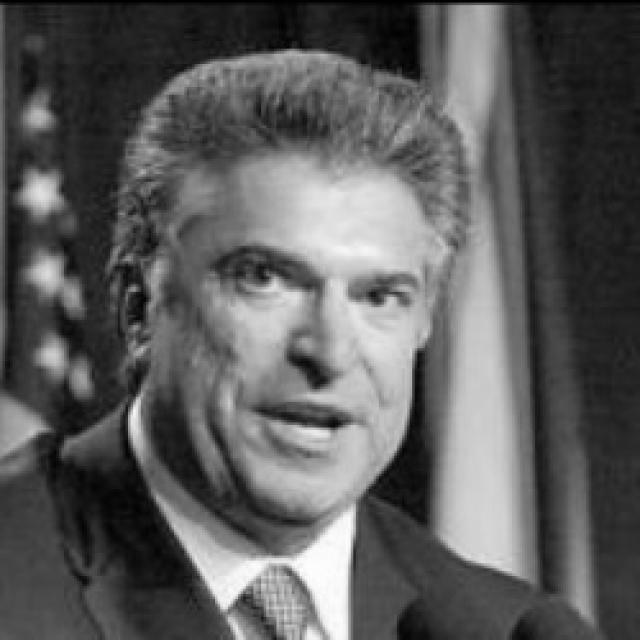real: (118, 72, 496, 528), (215, 238, 419, 325)
